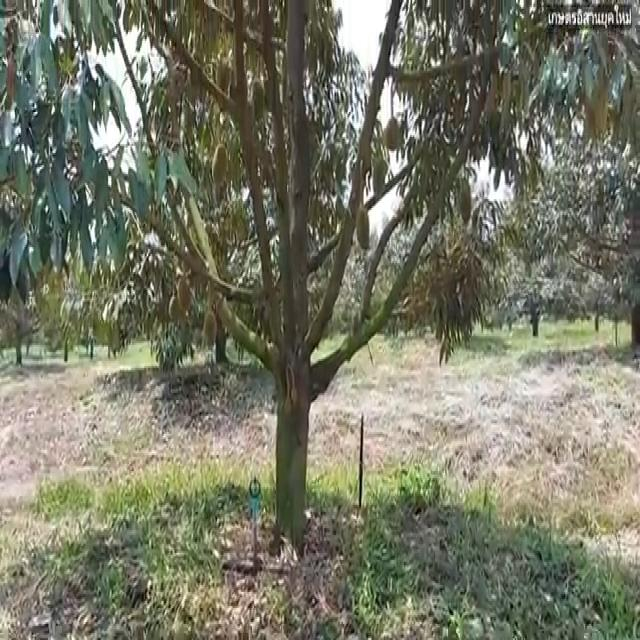durian: (210, 139, 231, 193), (354, 201, 373, 258), (382, 108, 402, 158), (202, 305, 219, 353), (251, 74, 266, 128)
